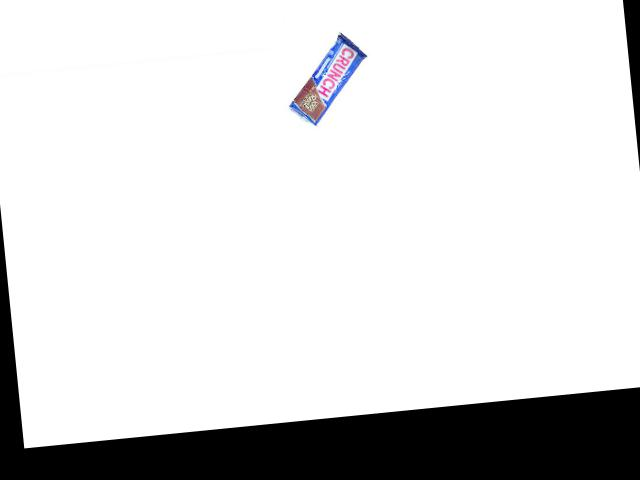chocolate: (280, 28, 374, 130)
